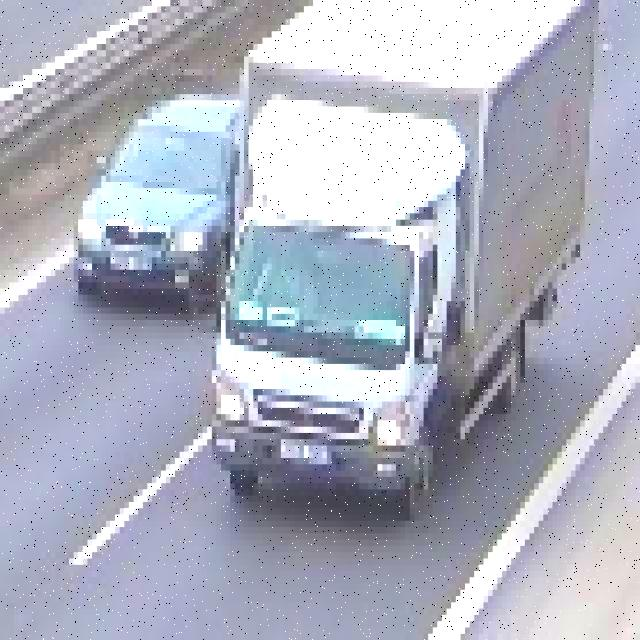truck: (198, 0, 594, 489)
